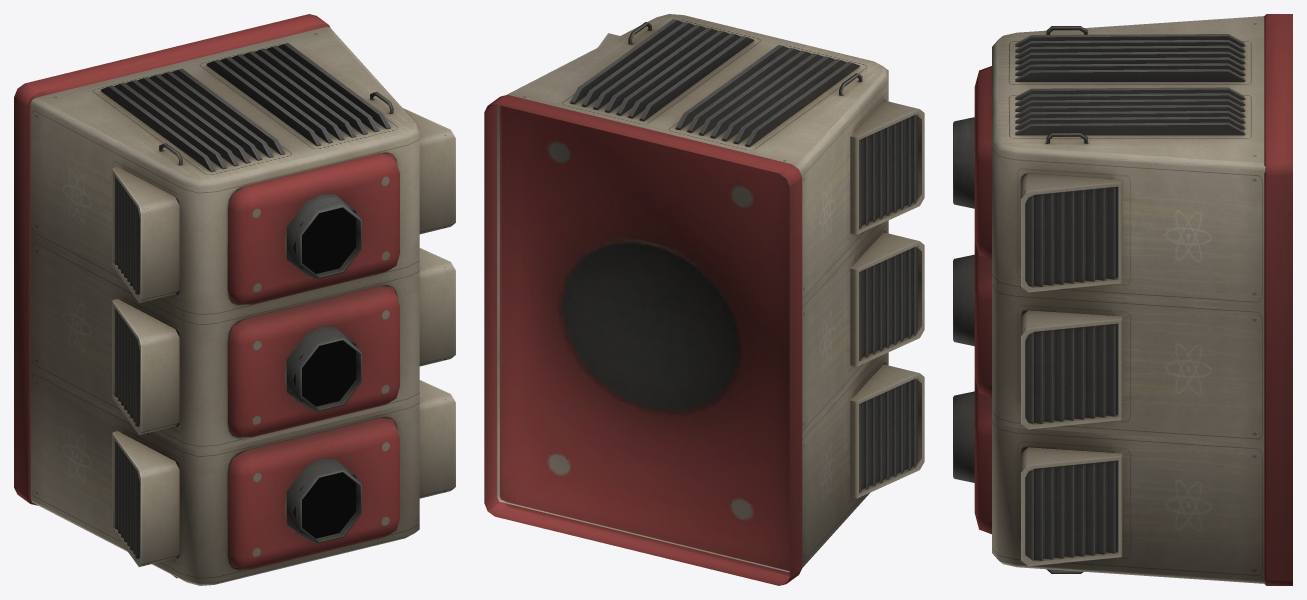
File: nt_generator_LOD1.obj
3 views of the same model, side by side, from view 1: azimuth 30°, elevation 25°; view 2: azimuth 150°, elevation 25°; view 3: azimuth 270°, elevation 25° (orthographic). The views are drawn at different scales.
Visible parts, largest first — view 1: mtl_nt_generator, mtl_p6_fan_standing_modern_on; view 2: mtl_nt_generator; view 3: mtl_nt_generator.
Part boxes in pixels (x1,y1,x2,y2): mtl_nt_generator: (14, 14, 455, 585); mtl_p6_fan_standing_modern_on: (293, 207, 356, 538); mtl_nt_generator: (484, 14, 924, 585); mtl_nt_generator: (953, 14, 1292, 585).
Bounding box in the file's own units: 293 × 378 × 264.
